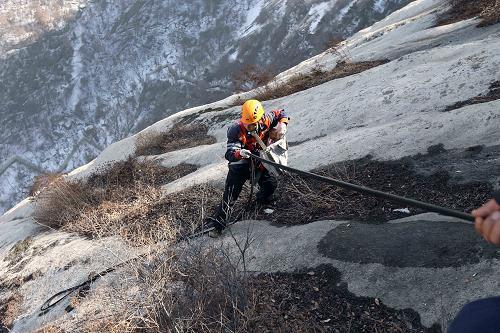helmet: (241, 100, 269, 131)
